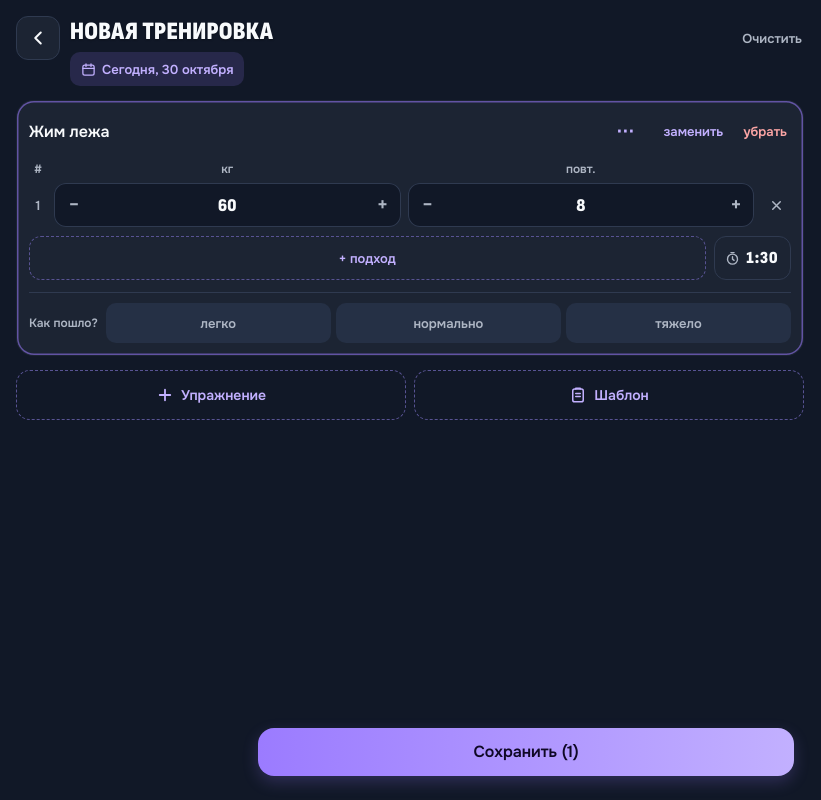
WorkoutScreen — добавление › пачка из уже стоящих — «Эти упражнения уже добавлены»
Click the button with aria-label "Добавить упражнение": (211, 395) x1=16 y1=370 x2=406 y2=420
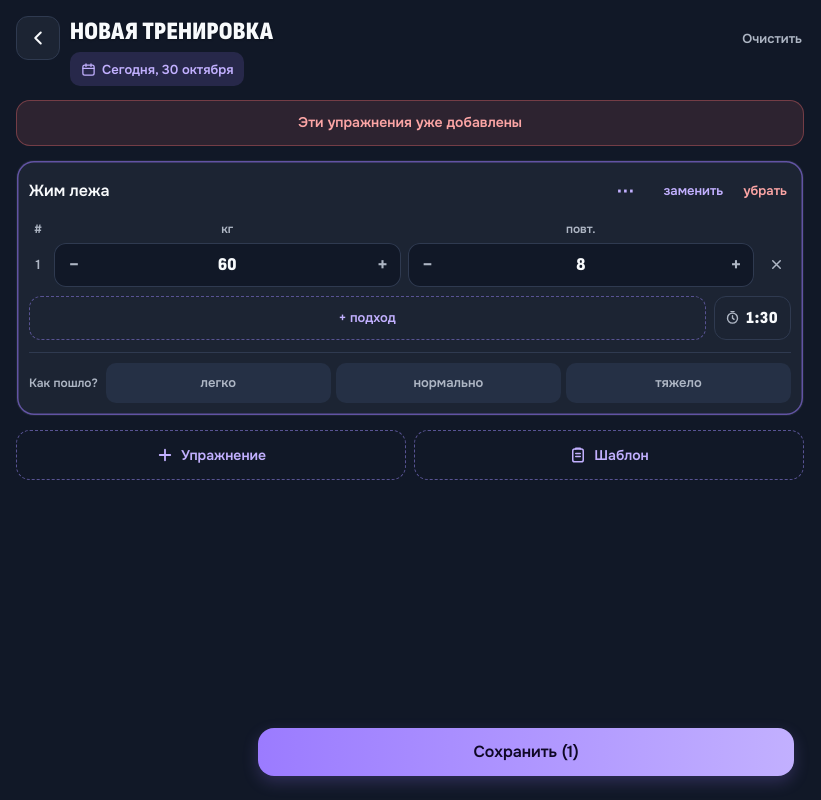
Expected: the text "Эти упражнения уже добавлены" is shown, x1=16 y1=100 x2=804 y2=146
